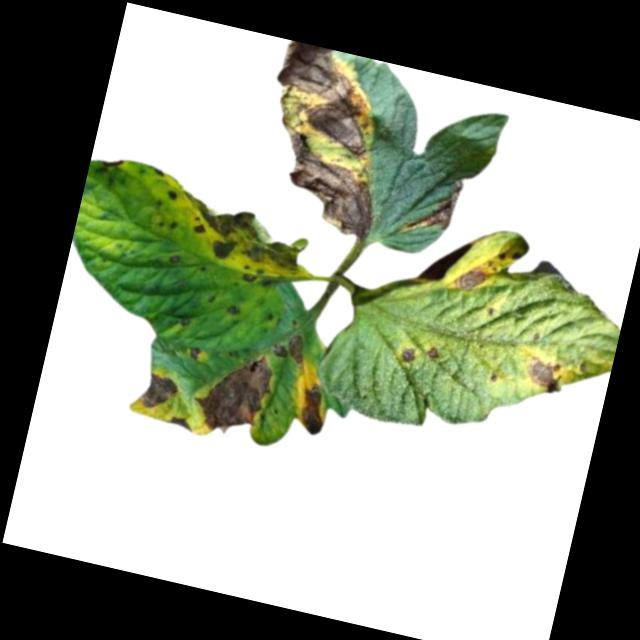Early_blight: (246, 40, 409, 240), (171, 194, 311, 283), (188, 342, 279, 443), (397, 167, 466, 244), (292, 377, 334, 436), (137, 366, 184, 413), (523, 352, 563, 394), (271, 329, 310, 368), (453, 258, 492, 296), (496, 244, 525, 265), (167, 412, 195, 431), (397, 343, 418, 364), (101, 154, 123, 170), (223, 301, 244, 317), (426, 343, 444, 360), (189, 343, 203, 360), (166, 185, 179, 202), (241, 271, 256, 282), (167, 254, 180, 265), (180, 312, 190, 323)
